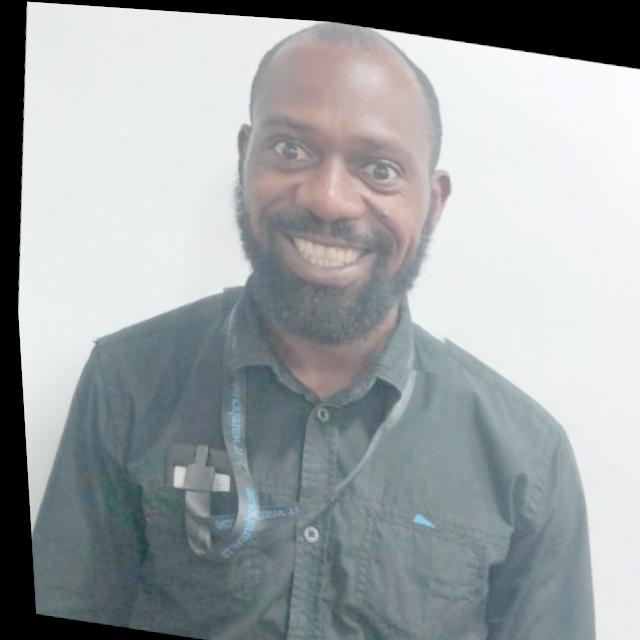happy: (203, 11, 475, 369)
